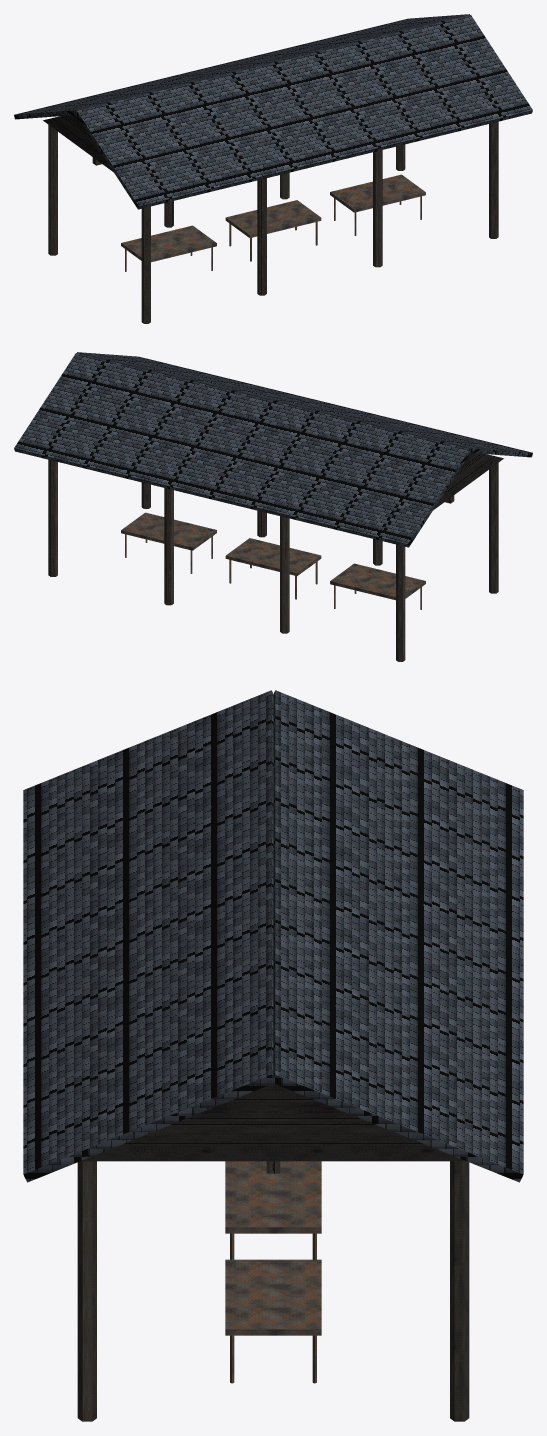
Rendered from lonja.obj.
3 views of the same model, one above another, from view 1: azimuth 30°, elevation 25°; view 2: azimuth 150°, elevation 25°; view 3: azimuth 270°, elevation 25° (orthographic). The views are drawn at different scales.
Visible parts, largest first — view 1: lonja; view 2: lonja; view 3: lonja.
Boxes of the visible parts, box(x1,y1,x2,y2) form: lonja: box(14, 14, 532, 323); lonja: box(14, 352, 532, 661); lonja: box(23, 690, 523, 1421).
Size of the model in its own units: 13.2 by 5.86 by 7.26.
Materials: 4 (4 with a texture image).
